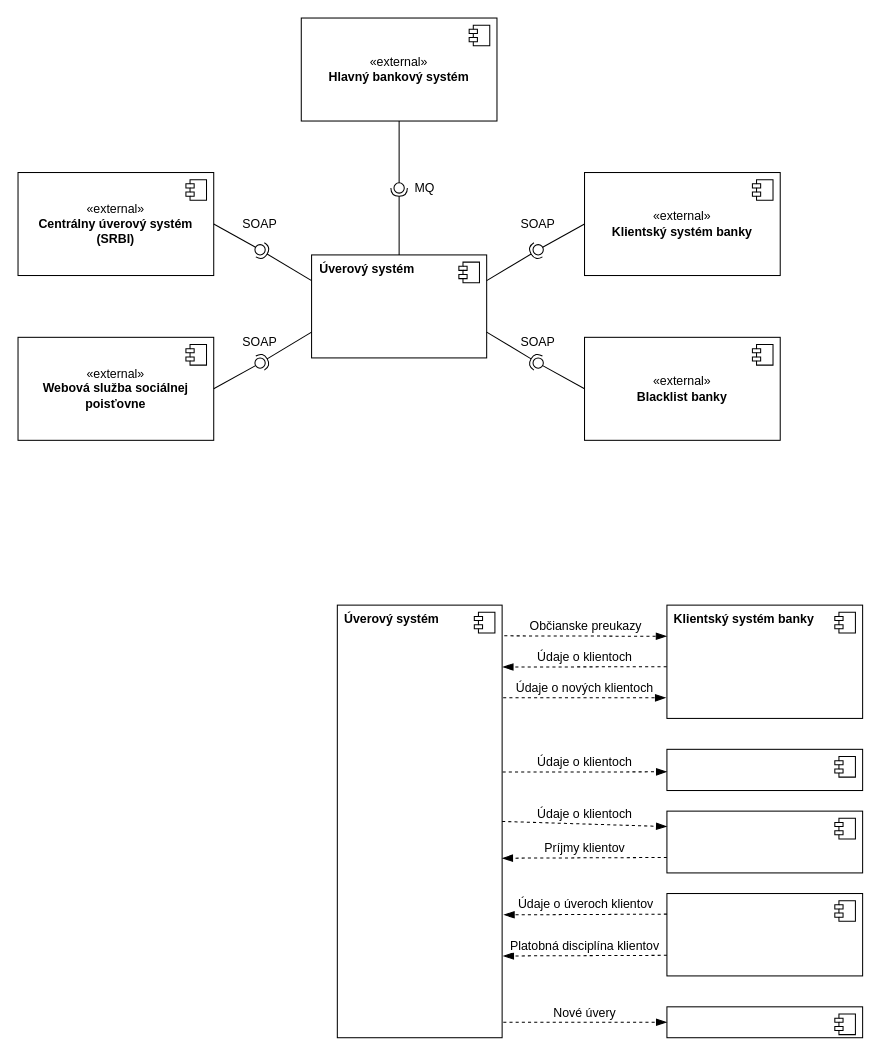
Some shapes in this 881 by 1056 pixel diagram are drawn without their labels. Here are the shapes that lost their labels. From the top down, the centre of each, then its label:
At point (764, 769): "Blacklist banky".
At point (764, 841): "Webová služba sociálnej poisťovne".
At point (764, 934): "Centrálny úverový systém (SRBI)".
At point (764, 1022): "Hlavný bankový systém".
